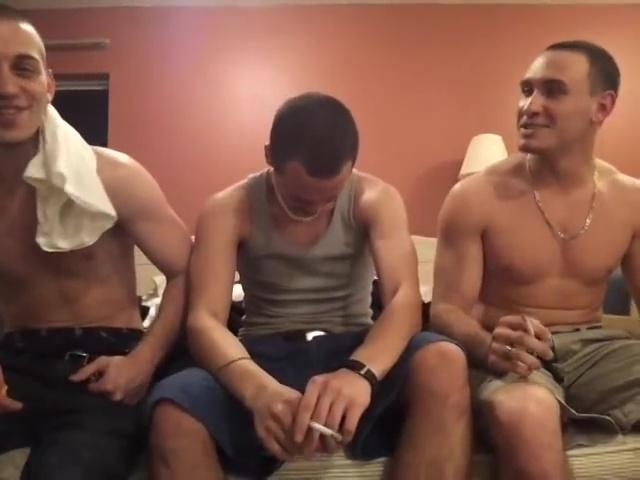cigarette: (305, 418, 345, 444), (517, 313, 535, 341)
